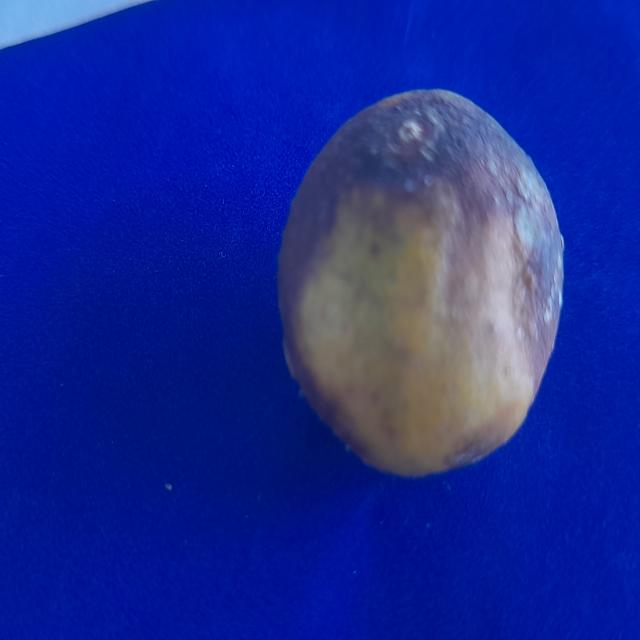black spot: (284, 76, 564, 473)
